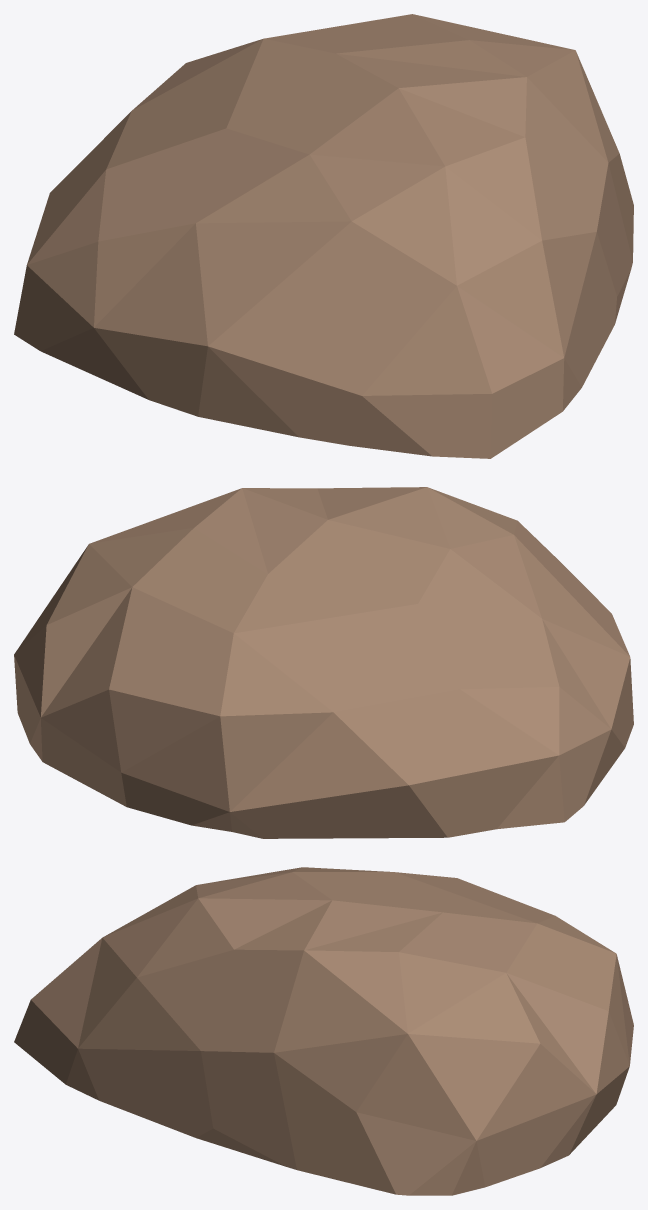
Rendered from Medium_Rocks_003.fbx.
The picture shows the model from 3 angles, top to bottom: view 1: azimuth 30°, elevation 25°; view 2: azimuth 150°, elevation 25°; view 3: azimuth 270°, elevation 25°; orthographic projection. The views are drawn at different scales.
Visible parts, largest first — view 1: Medium Rocks.003; view 2: Medium Rocks.003; view 3: Medium Rocks.003.
Boxes of the visible parts, x1,y1,x2,y2 form: Medium Rocks.003: (14,14,633,458); Medium Rocks.003: (14,487,633,838); Medium Rocks.003: (14,867,633,1195).
Bounding box in the file's own units: 27.8 × 9.4 × 29.13.
